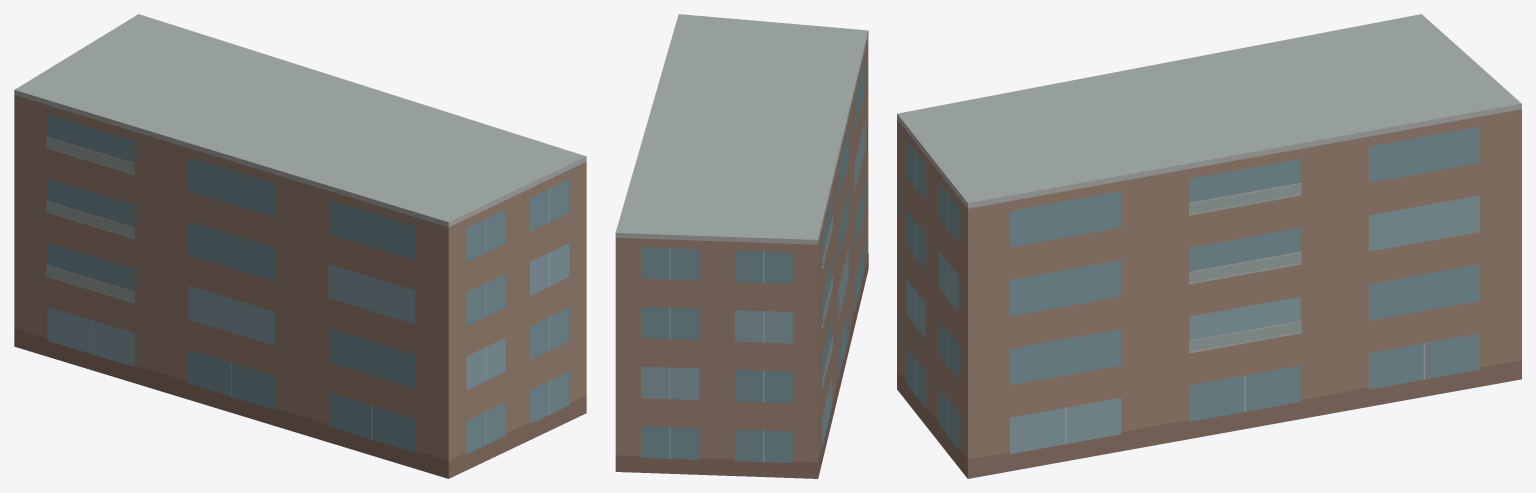
Rendered from residential-59469eb6-5171-4507-b8f7-a262941f57dc.glb.
3 renders of one model, left to right at view 1: azimuth 30°, elevation 25°; view 2: azimuth 150°, elevation 25°; view 3: azimuth 270°, elevation 25°, orthographic. The views are drawn at different scales.
Visible parts, largest first — view 1: residential-59469eb6-5171-4507-b8f7-a262941f57dc.tmp; view 2: residential-59469eb6-5171-4507-b8f7-a262941f57dc.tmp; view 3: residential-59469eb6-5171-4507-b8f7-a262941f57dc.tmp.
Part boxes in pixels (box(x1,y1,x2,y2)): residential-59469eb6-5171-4507-b8f7-a262941f57dc.tmp: box(14, 14, 586, 478); residential-59469eb6-5171-4507-b8f7-a262941f57dc.tmp: box(615, 14, 868, 478); residential-59469eb6-5171-4507-b8f7-a262941f57dc.tmp: box(897, 14, 1521, 478).
Bounding box in the file's own units: 17.97 × 12.2 × 25.07.
